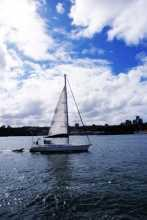fanchuan: (16, 78, 96, 154)
